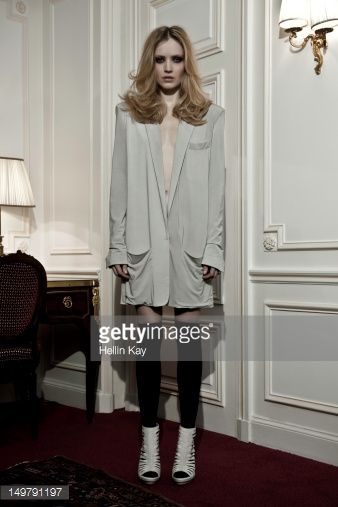em pe: (107, 18, 245, 429)
